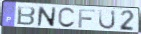2: (119, 9, 135, 32)
B: (16, 6, 37, 27)
C: (57, 7, 77, 29)
F: (77, 8, 96, 29)
N: (36, 6, 57, 28)
U: (97, 9, 116, 30)
